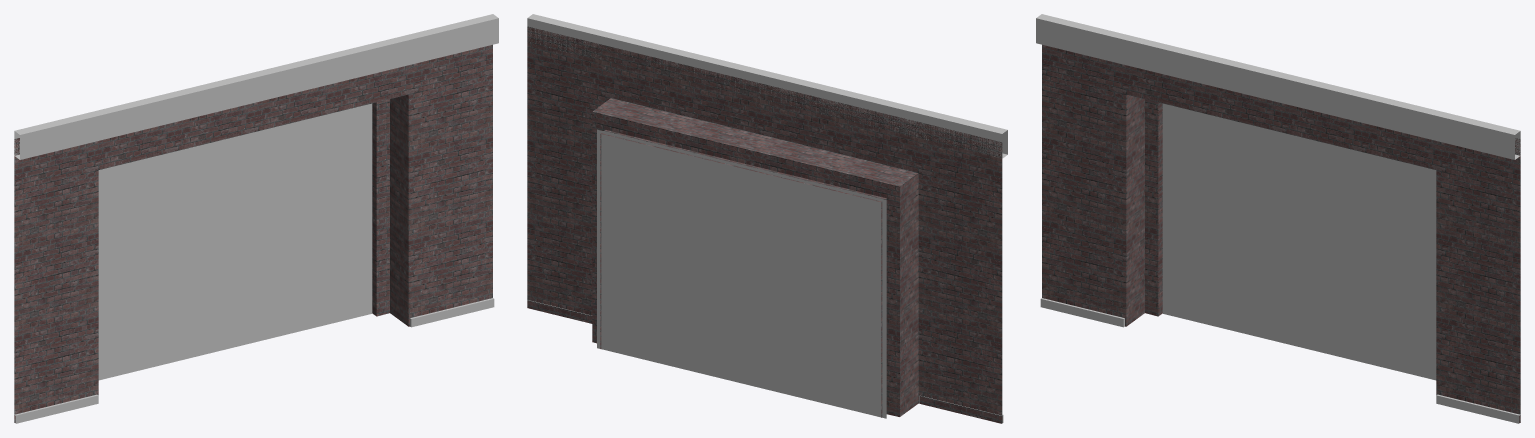
The model's file is Wall_A_Brick_DoorRoll_C_6x.FBX.
3 renders of one model, left to right at view 1: azimuth 30°, elevation 25°; view 2: azimuth 150°, elevation 25°; view 3: azimuth 330°, elevation 25°, orthographic.
Parts seen in each view (by area): view 1: Wall_A_Brick_DoorRoll_C_6x; view 2: Wall_A_Brick_DoorRoll_C_6x; view 3: Wall_A_Brick_DoorRoll_C_6x.
Boxes of the visible parts, bbox=[...] form: Wall_A_Brick_DoorRoll_C_6x: bbox=[14, 14, 498, 423]; Wall_A_Brick_DoorRoll_C_6x: bbox=[527, 14, 1007, 423]; Wall_A_Brick_DoorRoll_C_6x: bbox=[1036, 14, 1520, 423].
Bounding box in the file's own units: 600 × 351 × 64.97.
